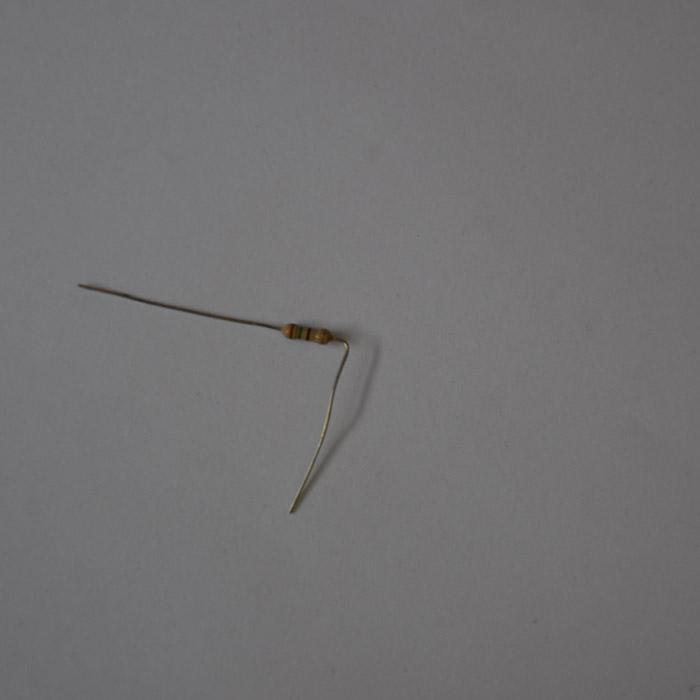resistor: (282, 322, 333, 344)
